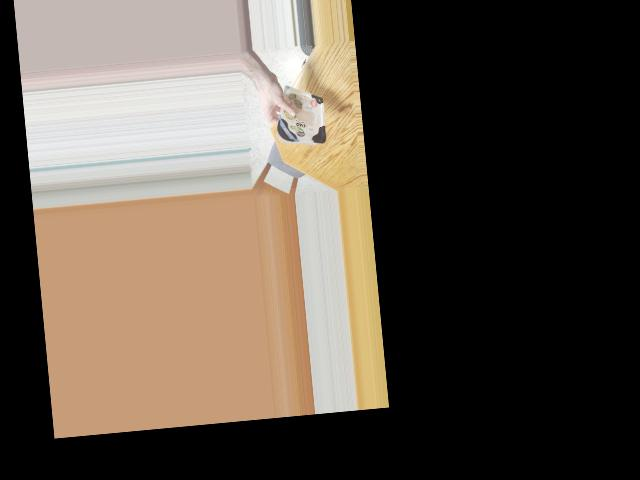cheese: (281, 87, 322, 148)
